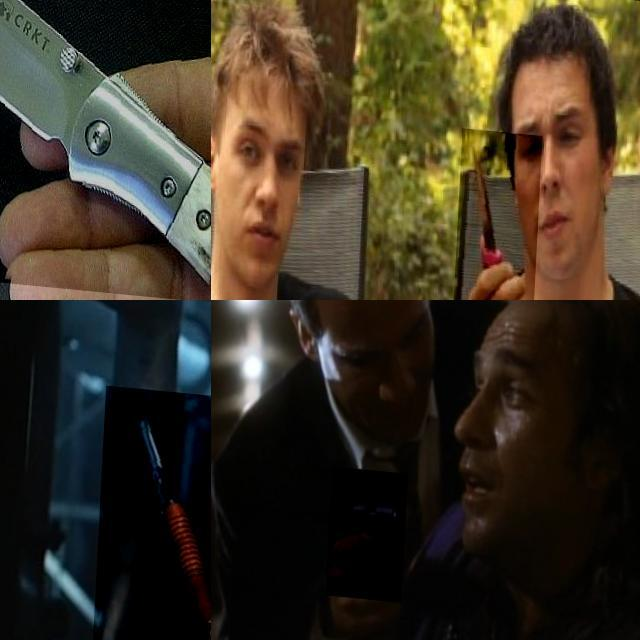-: (0, 0, 211, 295), (456, 121, 544, 300)
gun-knife-thesis - v11 Yolov5 augmented: (88, 382, 211, 640), (331, 462, 412, 597)
